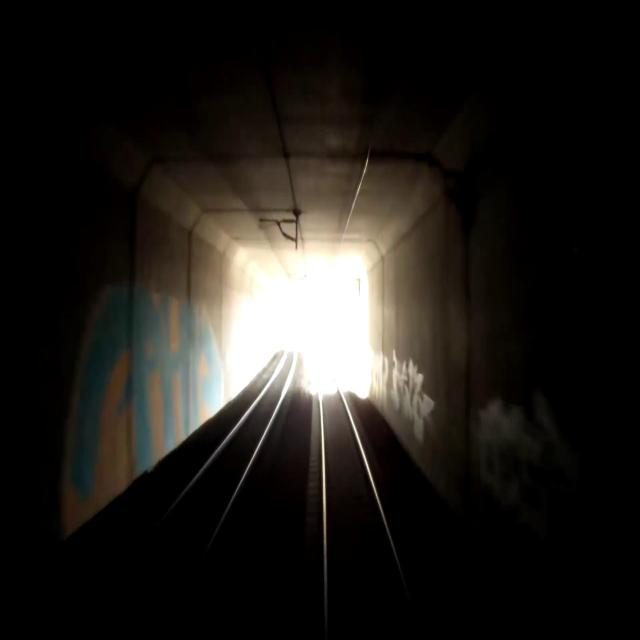rail-track: (120, 347, 293, 639), (316, 356, 419, 639)
